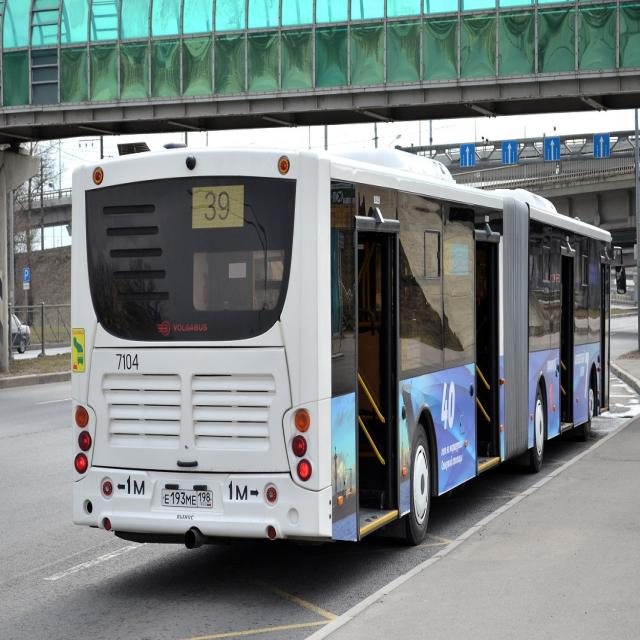number-of-bus: (201, 186, 235, 221)
